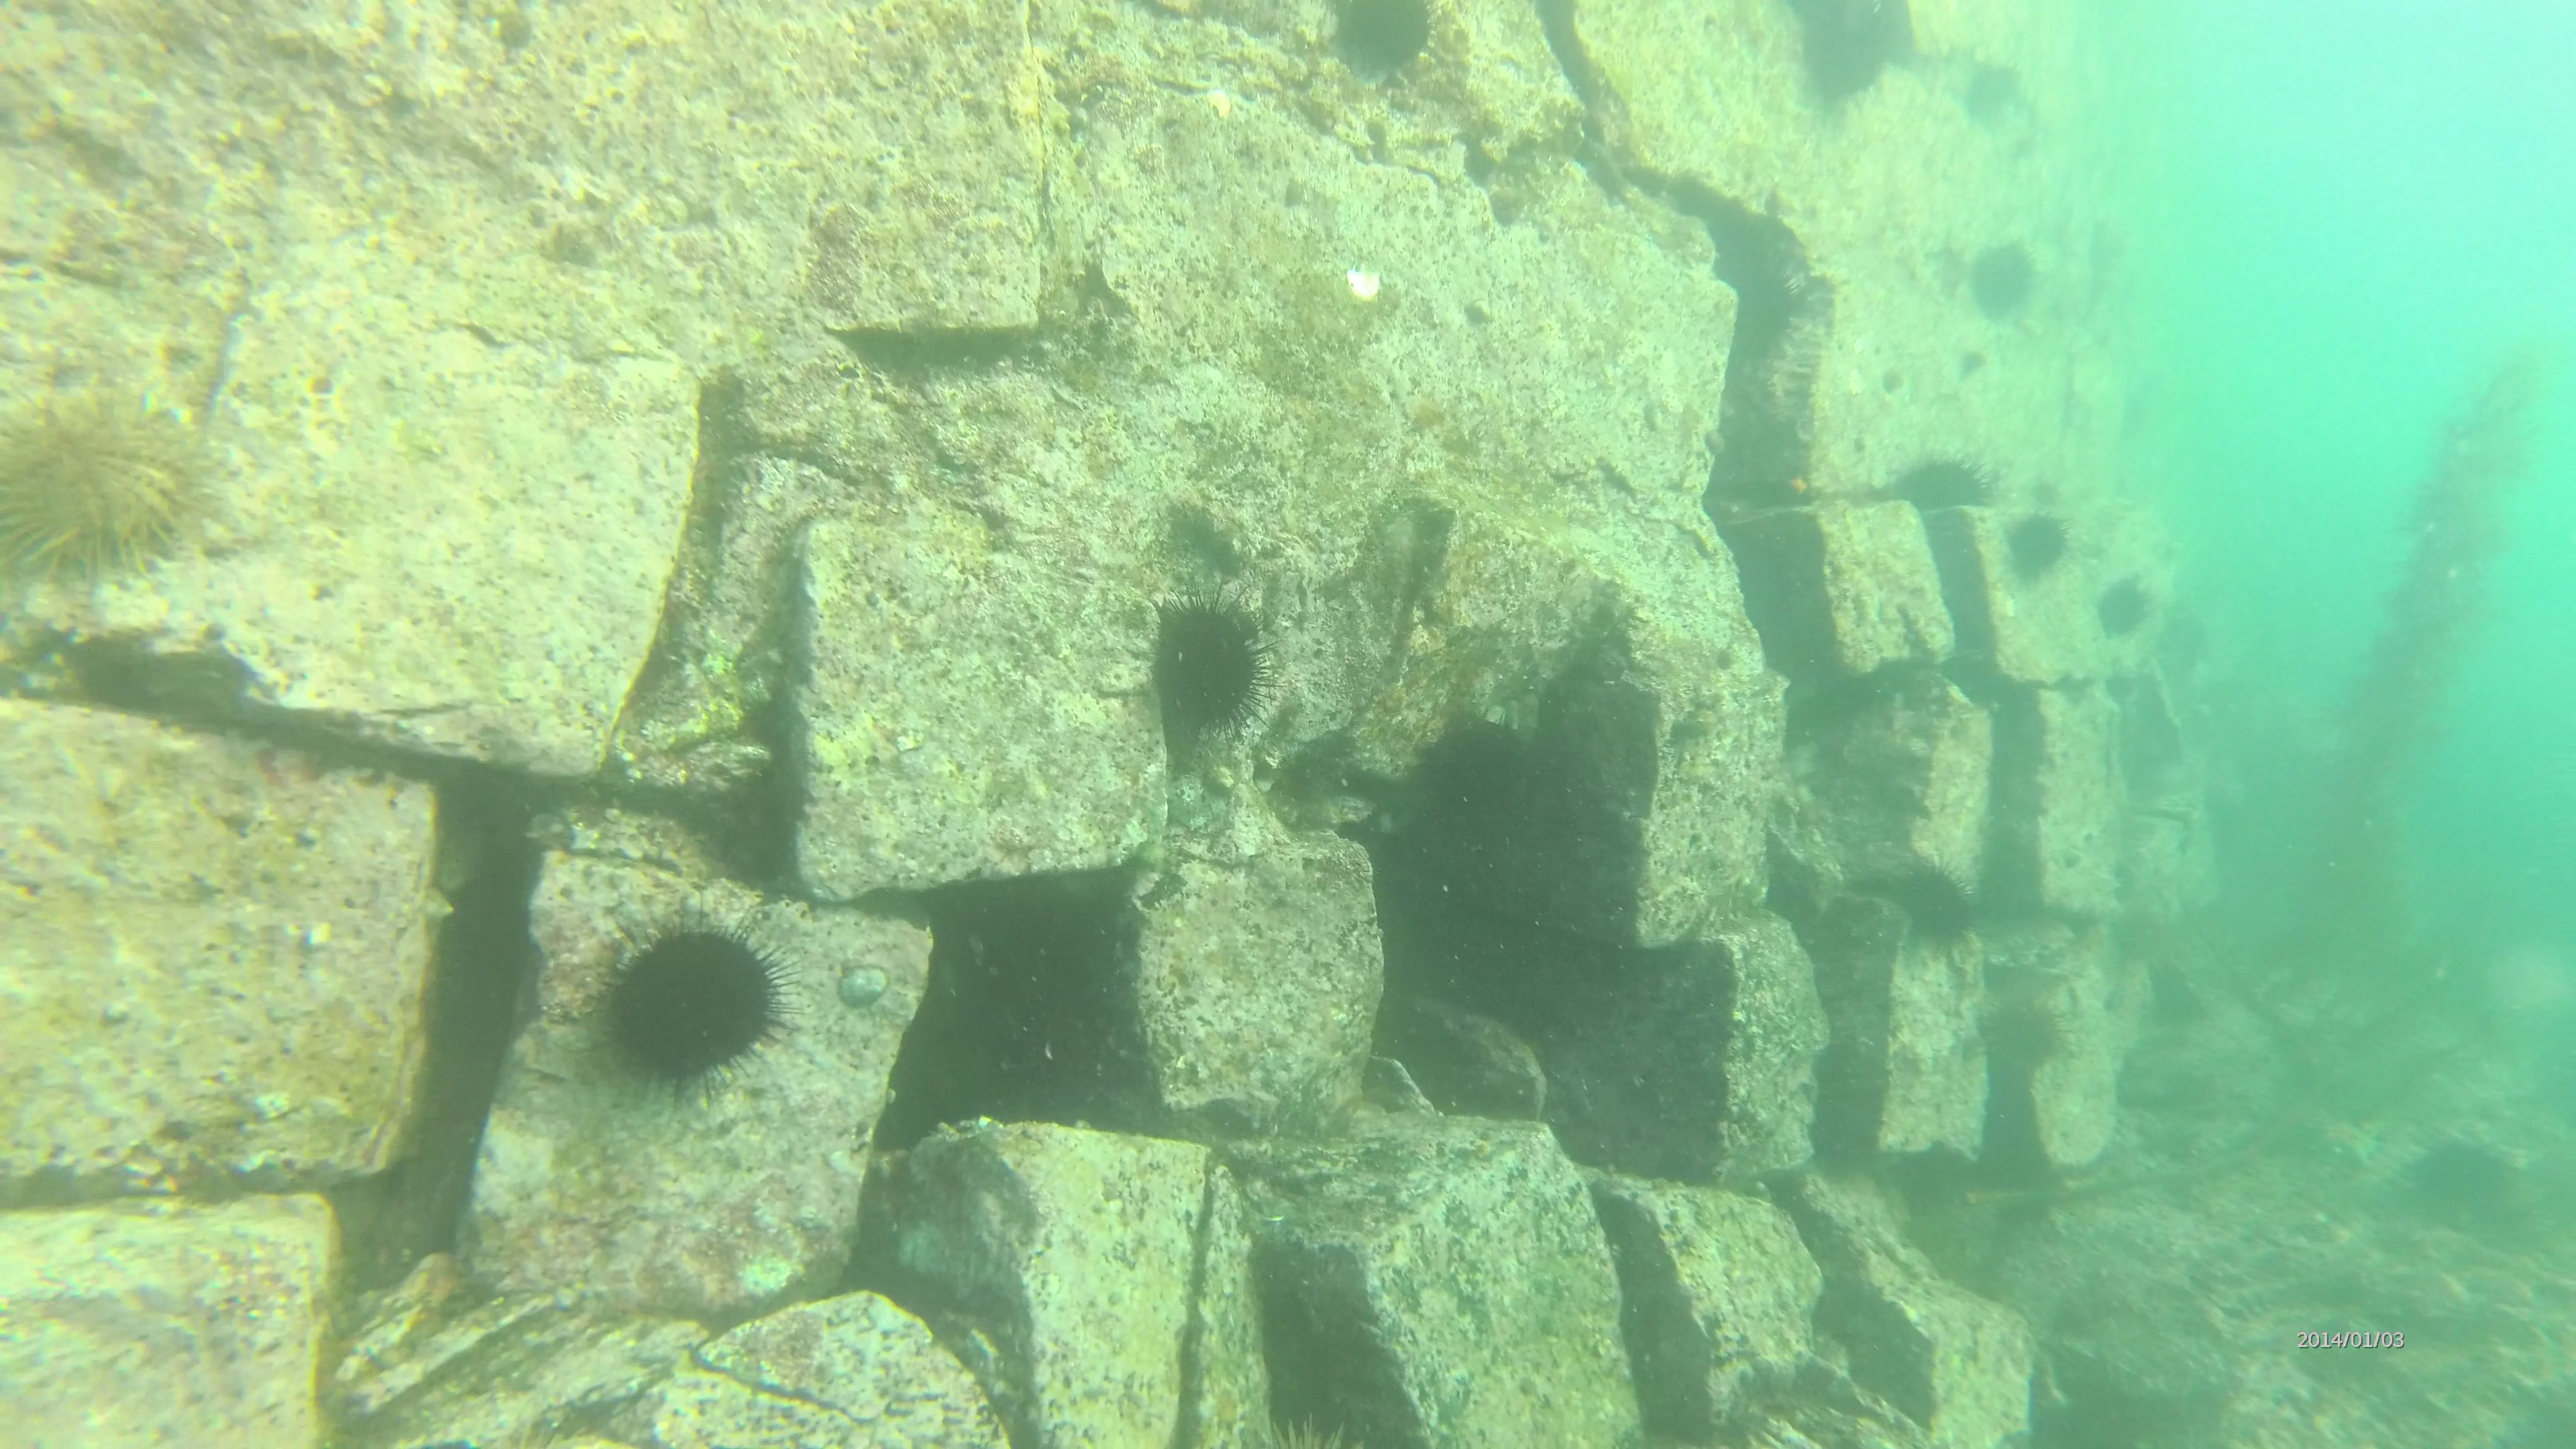echinus: (571, 888, 814, 1129), (0, 387, 200, 607), (1152, 580, 1299, 743), (2396, 1131, 2528, 1238), (1801, 0, 1897, 108), (1898, 847, 1990, 950), (1336, 0, 1444, 81), (1980, 998, 2074, 1086), (1957, 53, 2029, 142), (1971, 244, 2047, 327), (2008, 502, 2074, 586), (2088, 564, 2160, 637), (1902, 456, 2003, 508)
